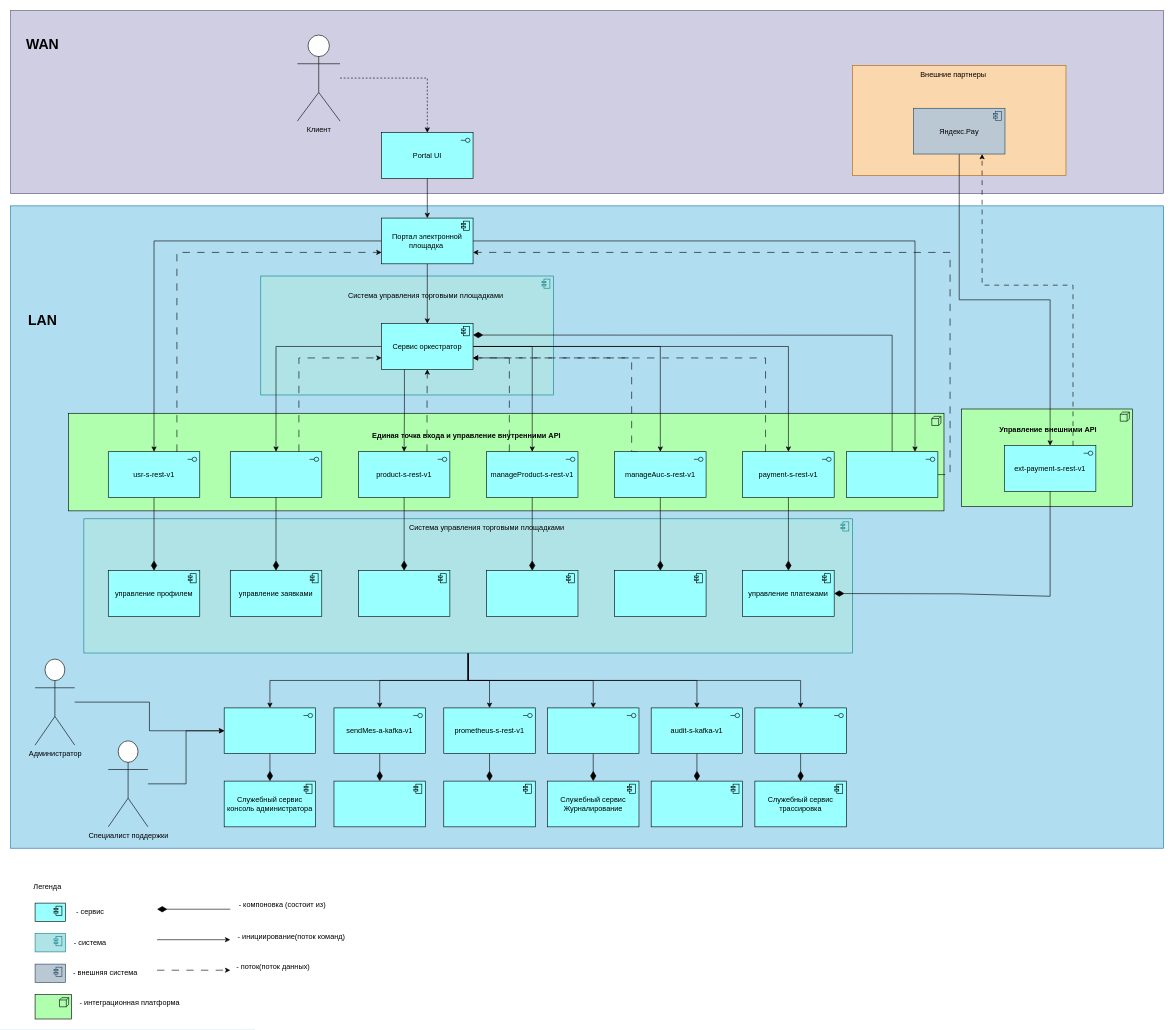
Image size: 1174x1030. Some labels were removed from this diagram. The box of each missing label's shape, as (x1, y1, x2, y2) in pixels:
arkSer-s-rest-v1: (846, 451, 938, 497)
bid-s-rest-v1: (230, 451, 322, 497)
jaeger-s-rest-v1: (754, 707, 846, 754)
log-a-kafka-v1: (547, 707, 639, 754)
UI консоли: (224, 707, 316, 754)
Служебный сервис аудит: (651, 780, 743, 827)
Служебный сервис нотификация: (333, 780, 425, 827)
Служебный сервис прикладной и системный мониторинг: (443, 780, 535, 827)
управление аукционами: (614, 570, 706, 616)
управление заказами: (486, 570, 578, 616)
управление товарами и услугами: (358, 570, 450, 616)
